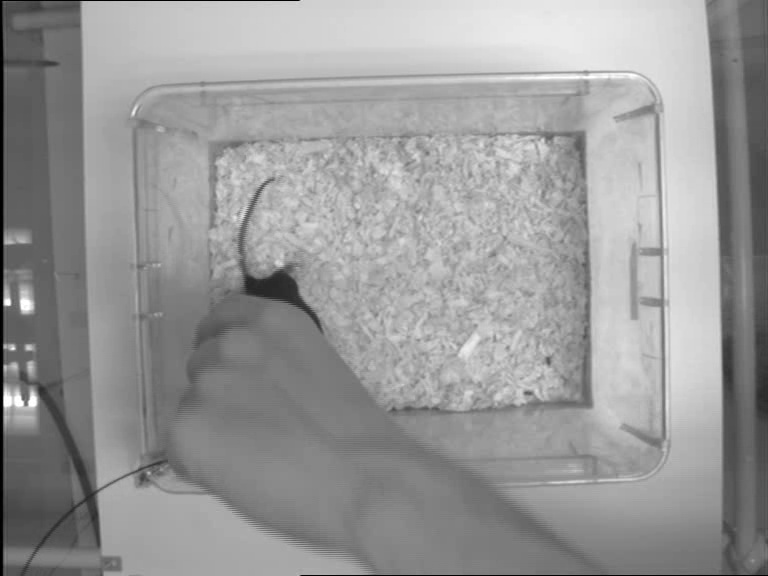mice: (231, 179, 333, 348)
